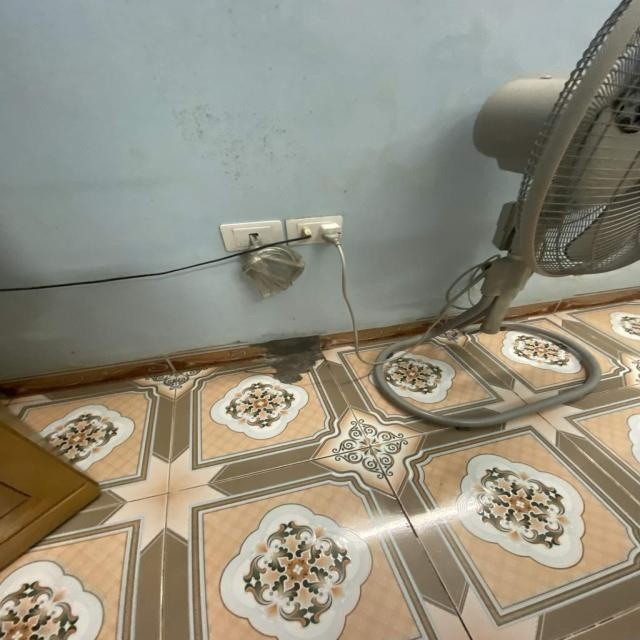outlet: (219, 220, 285, 252), (285, 215, 343, 246)
